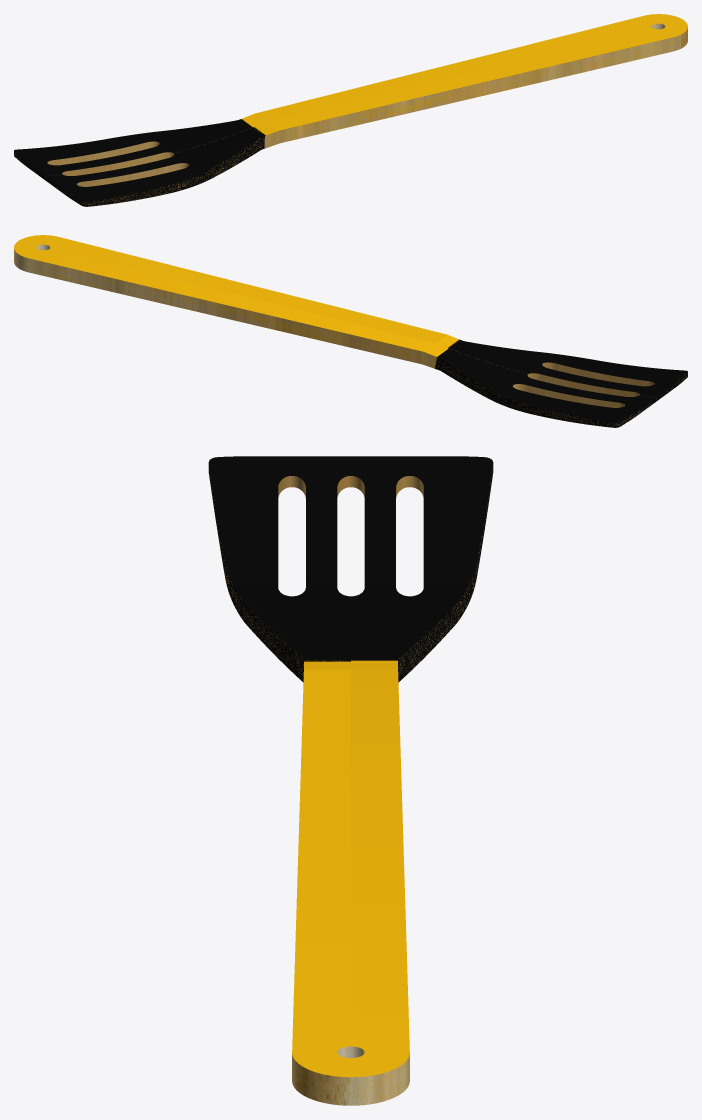
The model's file is turner_07_origin_gt_1.dae.
3 renders of one model, top to bottom at view 1: azimuth 30°, elevation 25°; view 2: azimuth 150°, elevation 25°; view 3: azimuth 270°, elevation 25°, orthographic. The views are drawn at different scales.
Visible parts, largest first — view 1: Wooden_Kitchen_Shovel (×9); view 2: Wooden_Kitchen_Shovel (×9); view 3: Wooden_Kitchen_Shovel (×6).
Part boxes in pixels (x1,y1,x2,y2): Wooden_Kitchen_Shovel (×9): (14, 14, 687, 206); Wooden_Kitchen_Shovel (×9): (14, 235, 687, 427); Wooden_Kitchen_Shovel (×6): (208, 456, 493, 1077).
Size of the model in its own units: 16.83 by 3.24 by 0.4591.
Materials: 5 (2 with a texture image).
